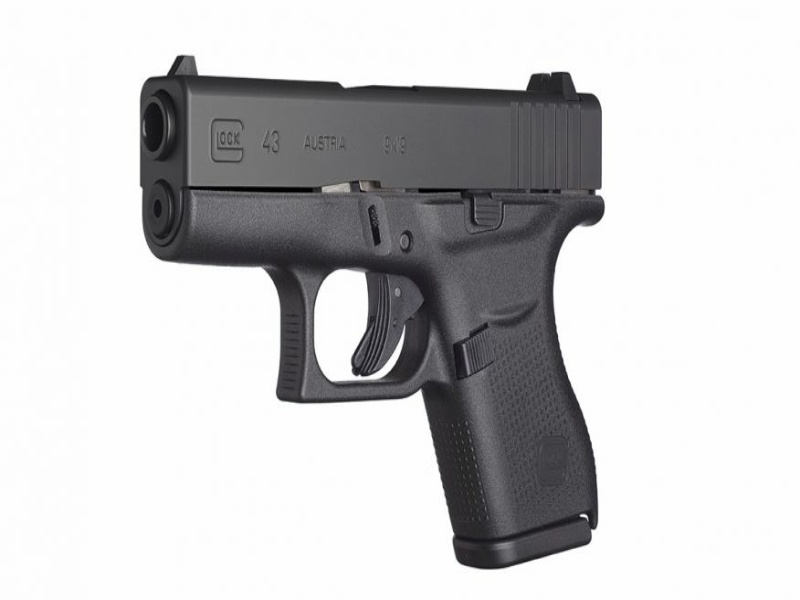gun: (133, 45, 612, 559)
